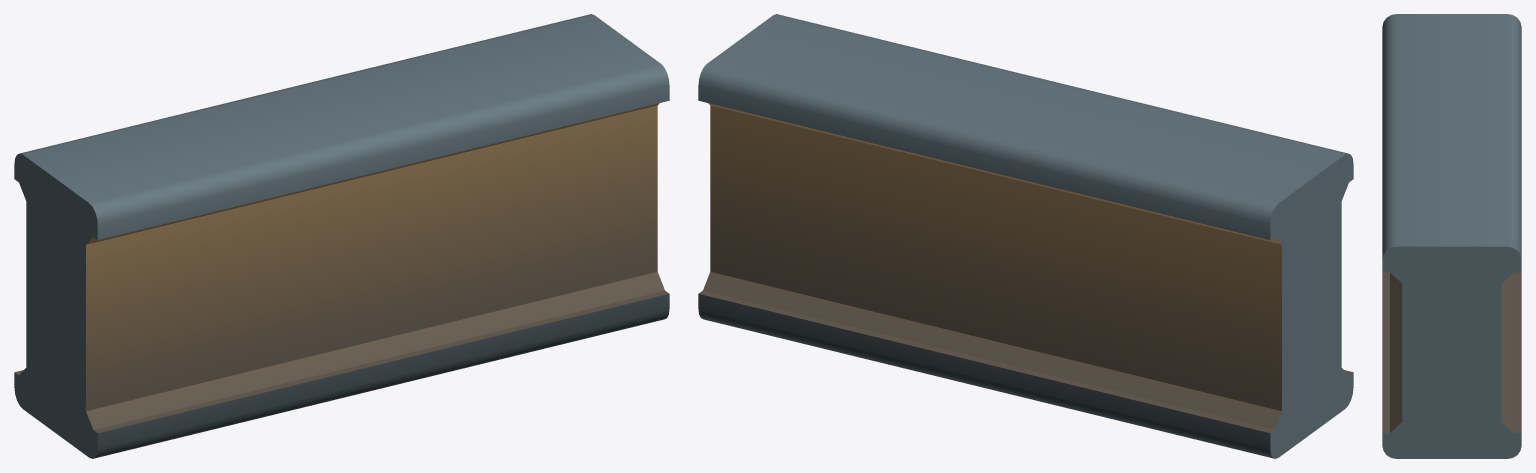
Rendered from BarTable.Modul1.fbx.
3 views of the same model, side by side, from view 1: azimuth 30°, elevation 25°; view 2: azimuth 150°, elevation 25°; view 3: azimuth 270°, elevation 25° (orthographic). The views are drawn at different scales.
Parts seen in each view (by area): view 1: BarTable.Modul1; view 2: BarTable.Modul1; view 3: BarTable.Modul1.
Part boxes in pixels (<box>): BarTable.Modul1: <box>14,14,669,458</box>; BarTable.Modul1: <box>698,14,1353,458</box>; BarTable.Modul1: <box>1382,14,1521,458</box>.
Bounding box in the file's own units: 2.64 × 0.6671 × 1.12.
